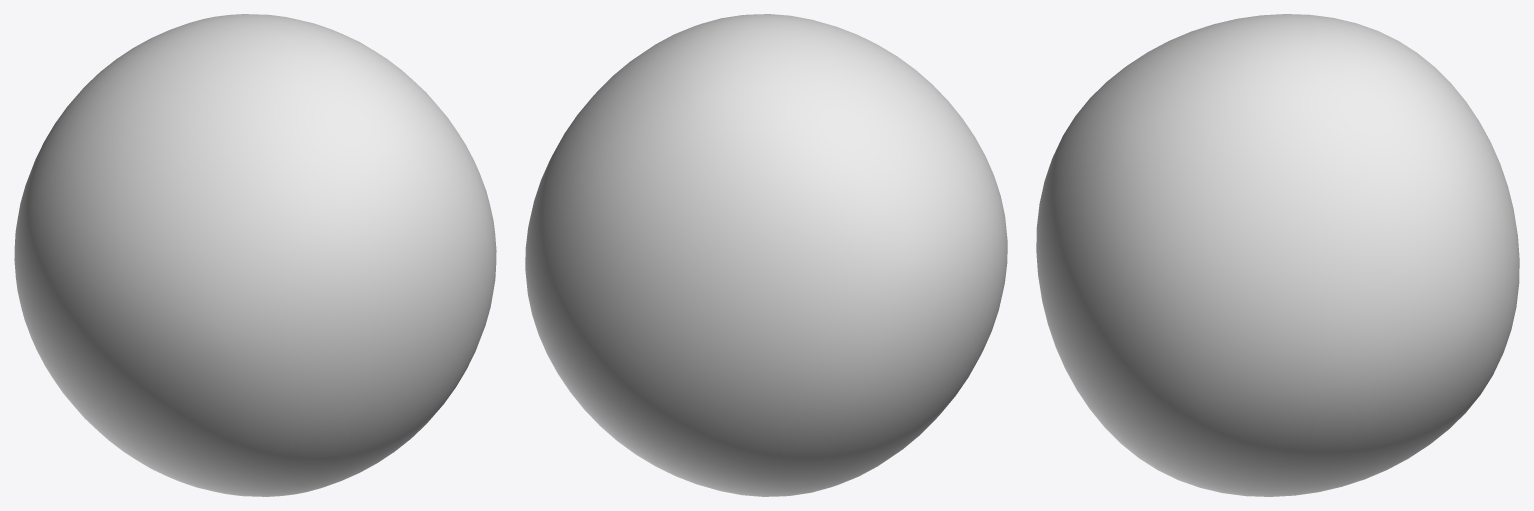
3 renders of one model, left to right at view 1: azimuth 30°, elevation 25°; view 2: azimuth 150°, elevation 25°; view 3: azimuth 270°, elevation 25°, orthographic. The views are drawn at different scales.
Visible parts, largest first — view 1: Cube.1415; view 2: Cube.1415; view 3: Cube.1415.
Boxes of the visible parts, x1,y1,x2,y2 form: Cube.1415: (14, 14, 496, 496); Cube.1415: (525, 14, 1007, 496); Cube.1415: (1036, 14, 1519, 496).
Size of the model in its own units: 0.8683 by 0.8696 by 0.8574.
Materials: 1 (1 with a texture image).
